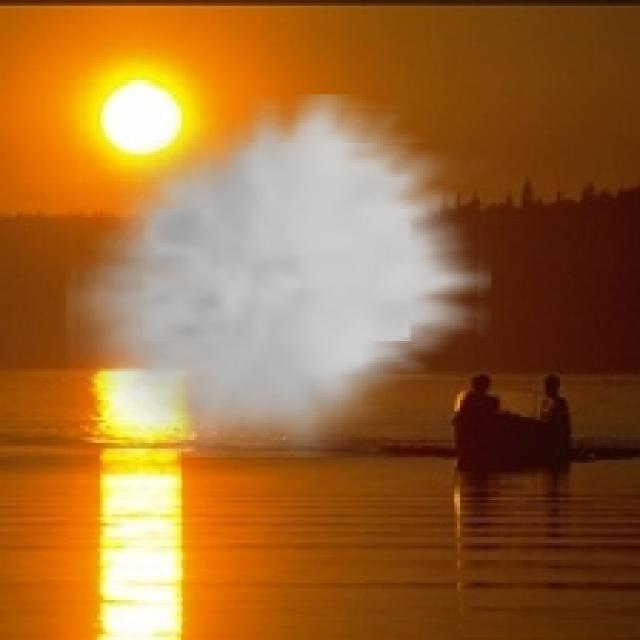smoke: (66, 94, 491, 457)
